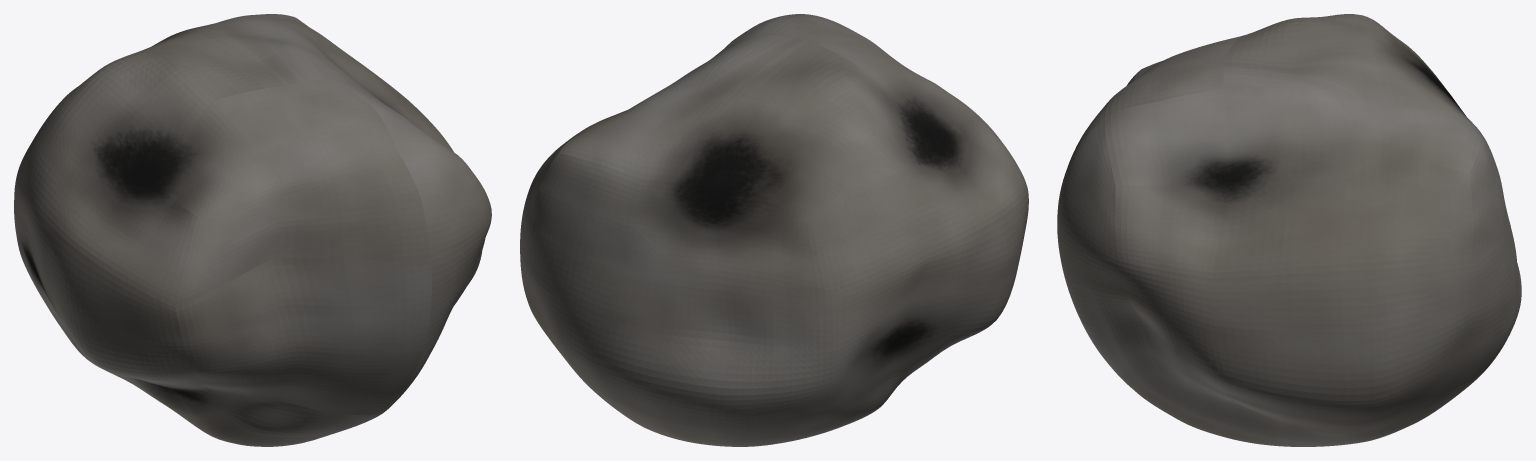
File: asteroid_highpoly_flat.fbx
3 views of the same model, side by side, from view 1: azimuth 30°, elevation 25°; view 2: azimuth 150°, elevation 25°; view 3: azimuth 270°, elevation 25° (orthographic).
Visible parts, largest first — view 1: asteroid_flat_highpoly; view 2: asteroid_flat_highpoly; view 3: asteroid_flat_highpoly.
Boxes of the visible parts, bbox=[...] form: asteroid_flat_highpoly: bbox=[14, 14, 491, 446]; asteroid_flat_highpoly: bbox=[520, 14, 1028, 446]; asteroid_flat_highpoly: bbox=[1057, 14, 1521, 446].
Size of the model in its own units: 2010 by 1711 by 1950.
